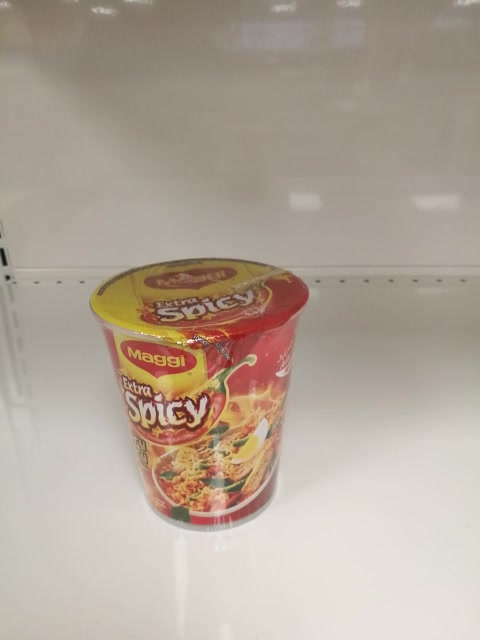maggi: (89, 255, 310, 533)
